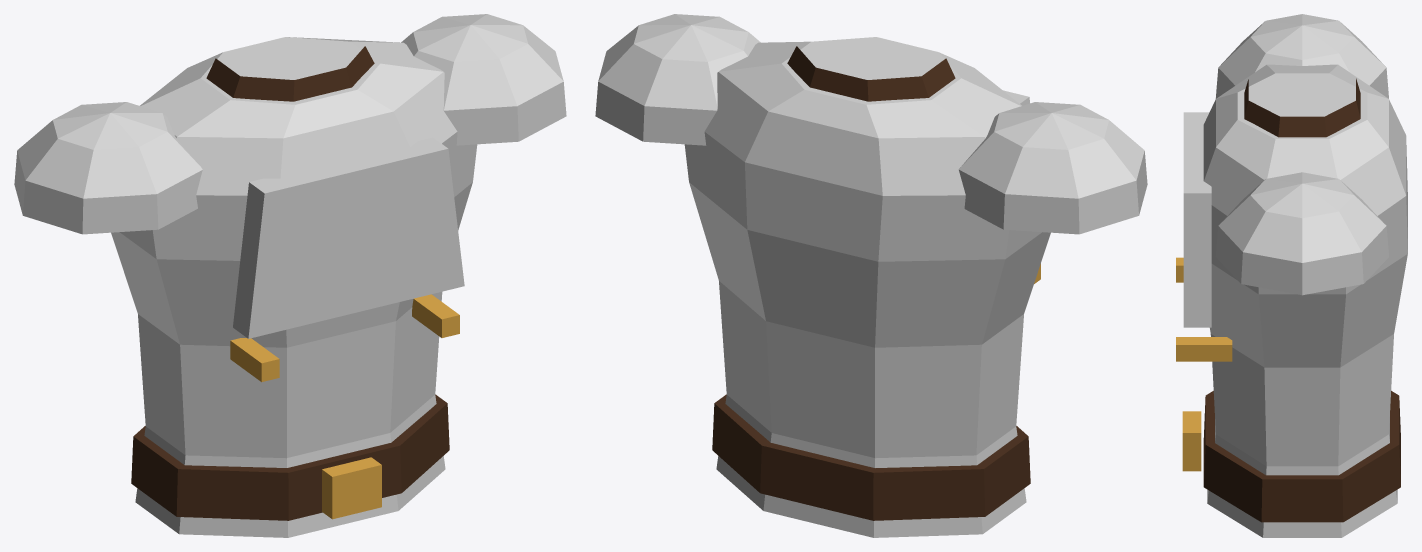
The model's file is armor_body.glb.
The picture shows the model from 3 angles, left to right: view 1: azimuth 30°, elevation 25°; view 2: azimuth 150°, elevation 25°; view 3: azimuth 270°, elevation 25°; orthographic projection. The views are drawn at different scales.
Parts seen in each view (by area): view 1: armor_body; view 2: armor_body; view 3: armor_body.
Boxes of the visible parts, <box> form: armor_body: <box>14,14,566,537</box>; armor_body: <box>595,14,1147,537</box>; armor_body: <box>1176,14,1407,537</box>.
Size of the model in its own units: 0.594 by 0.46 by 0.2477.
